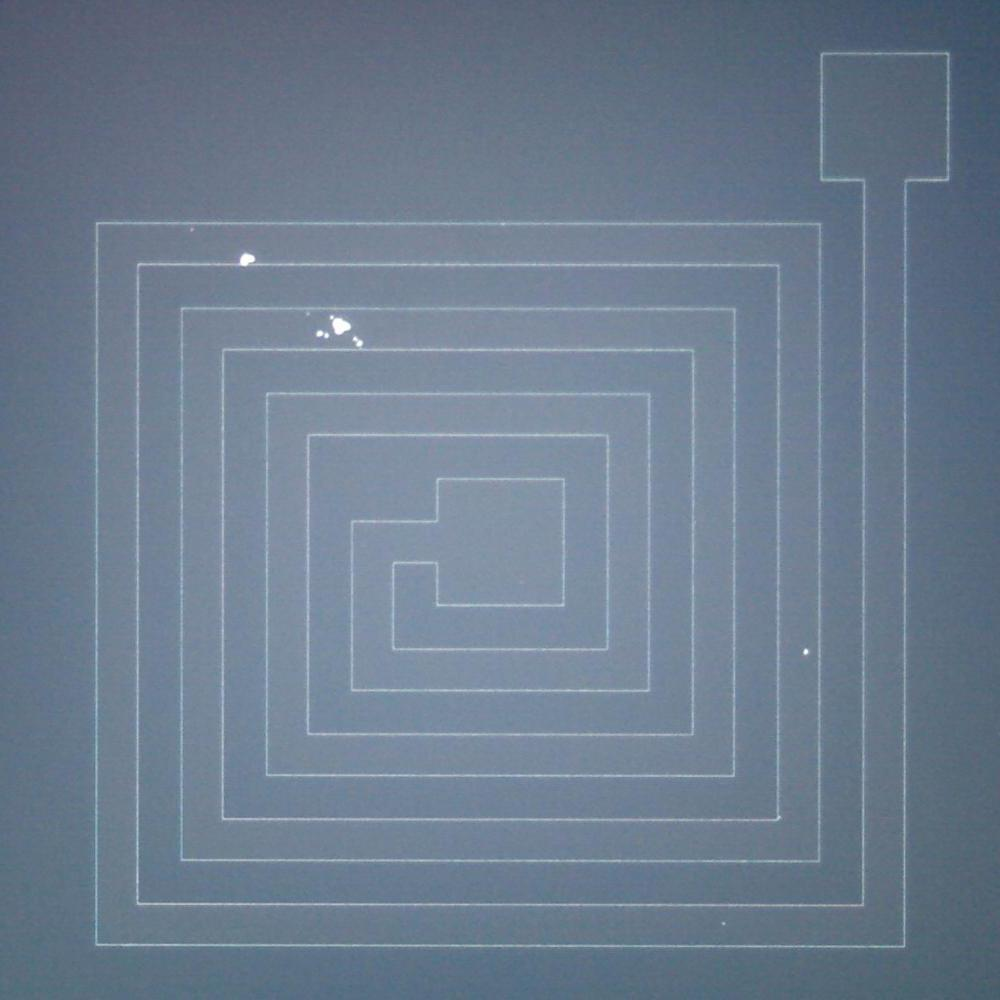dot: (794, 640, 818, 669)
spot: (328, 311, 355, 337), (236, 251, 260, 269)
